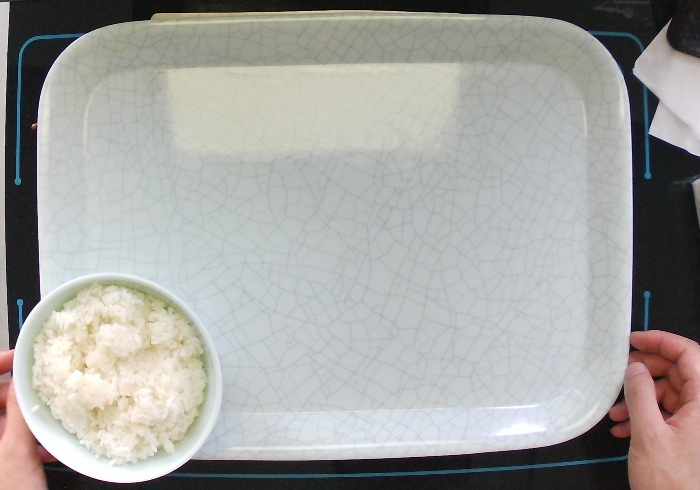JYsf-Fan_Wan: (10, 271, 226, 486)
